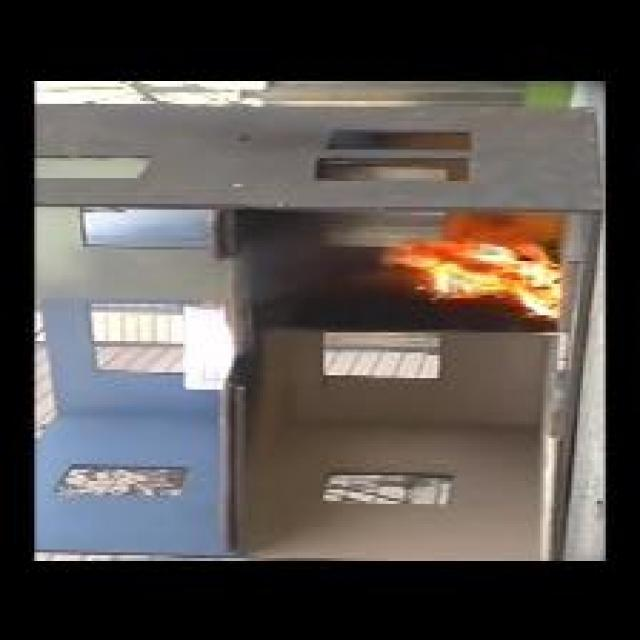Fire: (382, 240, 562, 317)
